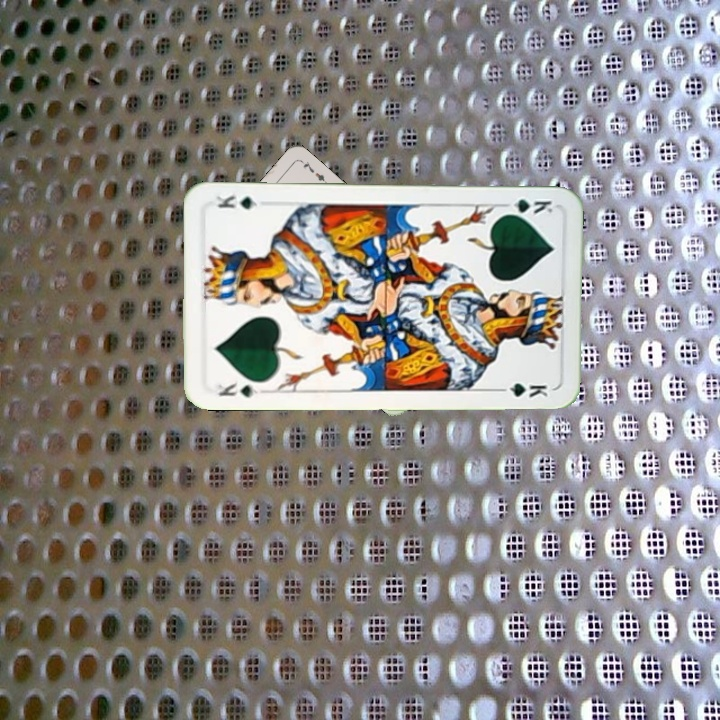GK: (498, 195, 555, 217), (214, 378, 261, 401)
